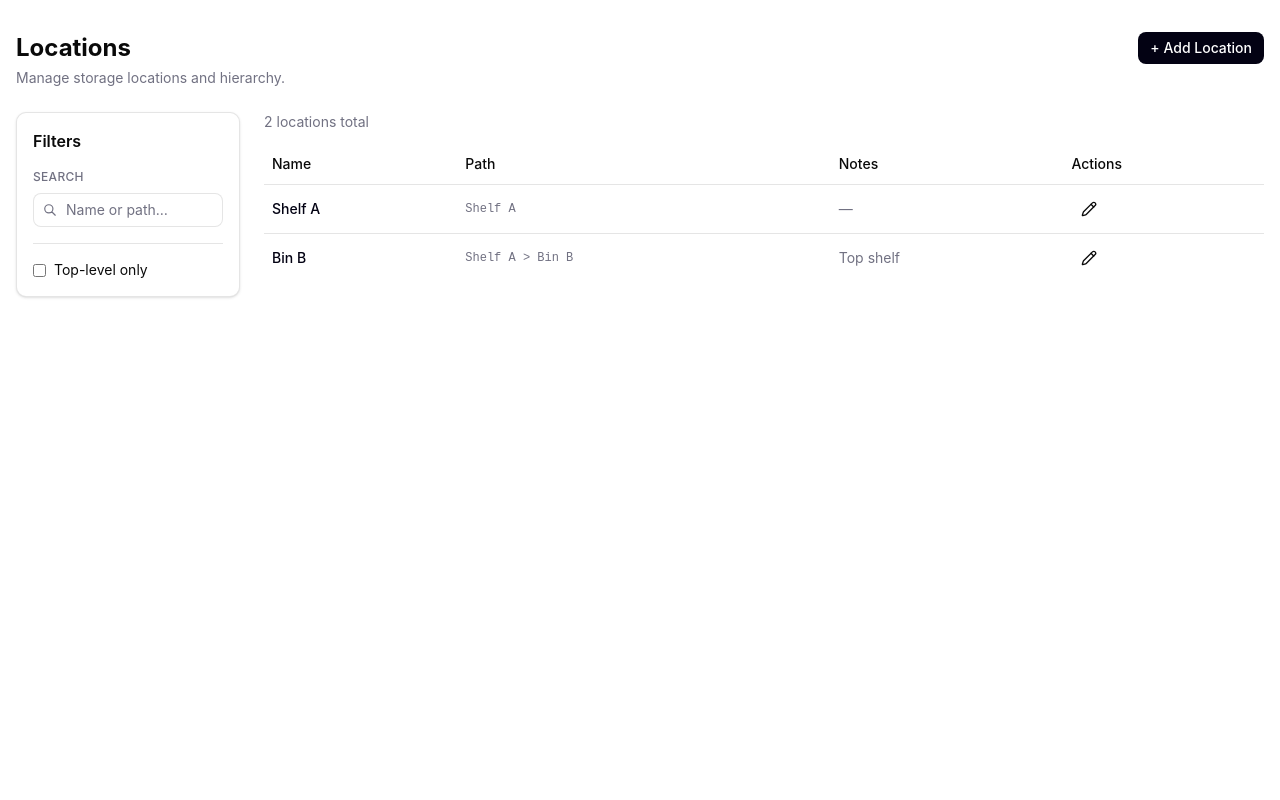
Test case: LocationsPage — Add Location dialog › opens the dialog with title "Add Location" when button is clicked
Click the button "+ Add Location": (1201, 48) [1138,32,1264,64]
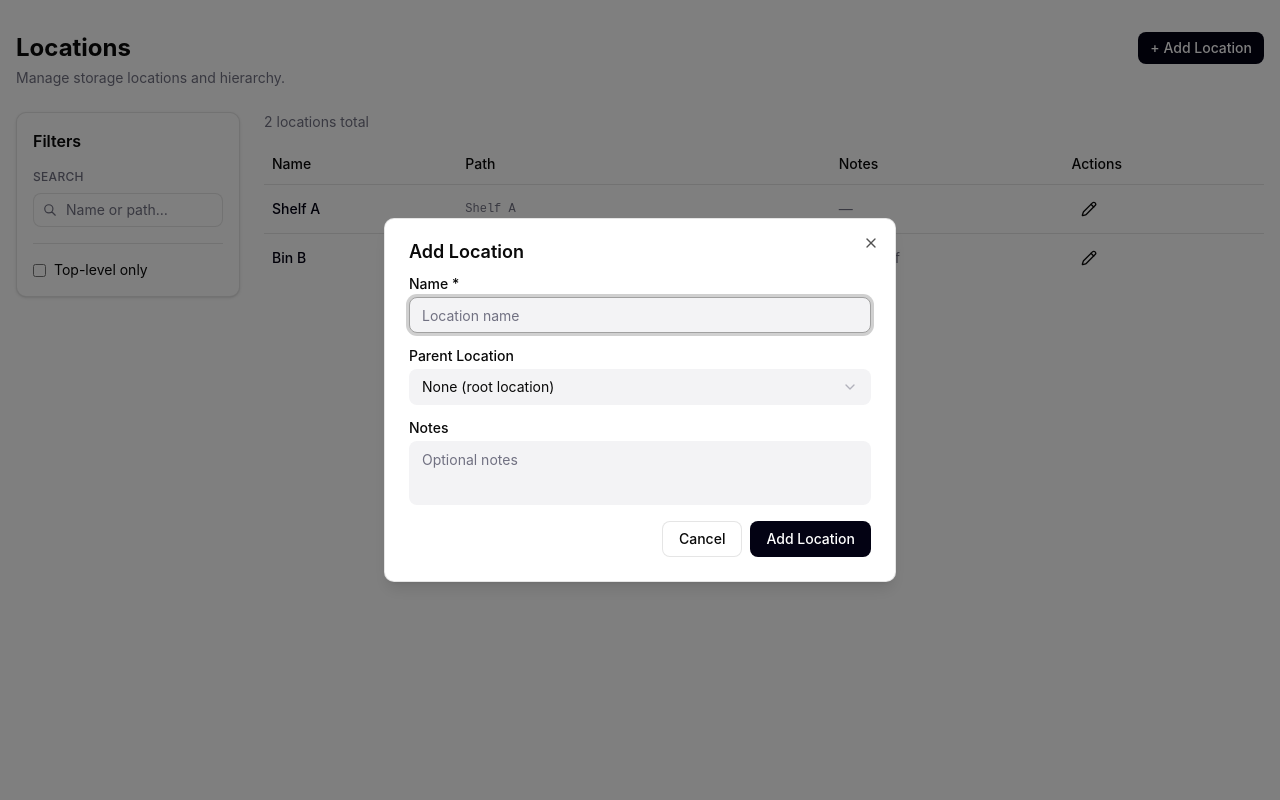
Result: the dialog is shown at [384,218,896,582]
Result: the heading "Add Location" is shown at [409,241,524,262]
